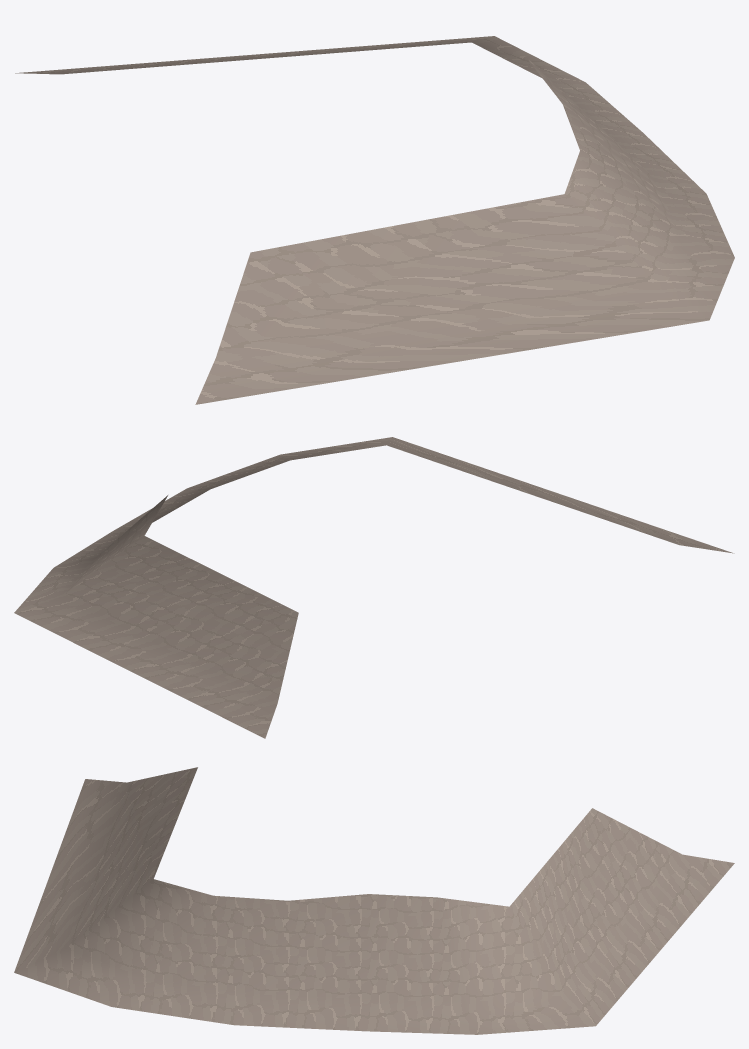
The model's file is kd_stage_135ded_0_8.glb.
3 renders of one model, top to bottom at view 1: azimuth 30°, elevation 25°; view 2: azimuth 150°, elevation 25°; view 3: azimuth 270°, elevation 25°, orthographic. The views are drawn at different scales.
Visible parts, largest first — view 1: kd_stage_135ded_0_8; view 2: kd_stage_135ded_0_8; view 3: kd_stage_135ded_0_8.
Boxes of the visible parts, bbox=[...] form: kd_stage_135ded_0_8: bbox=[15, 36, 734, 404]; kd_stage_135ded_0_8: bbox=[14, 437, 734, 738]; kd_stage_135ded_0_8: bbox=[14, 767, 734, 1034].
Size of the model in its own units: 49.27 by 8.02 by 58.58.
Materials: 1 (1 with a texture image).
